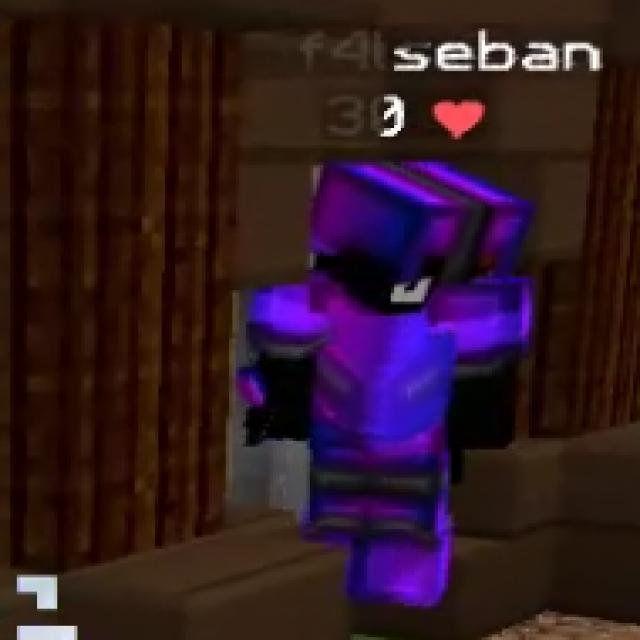Player: (242, 155, 528, 608)
